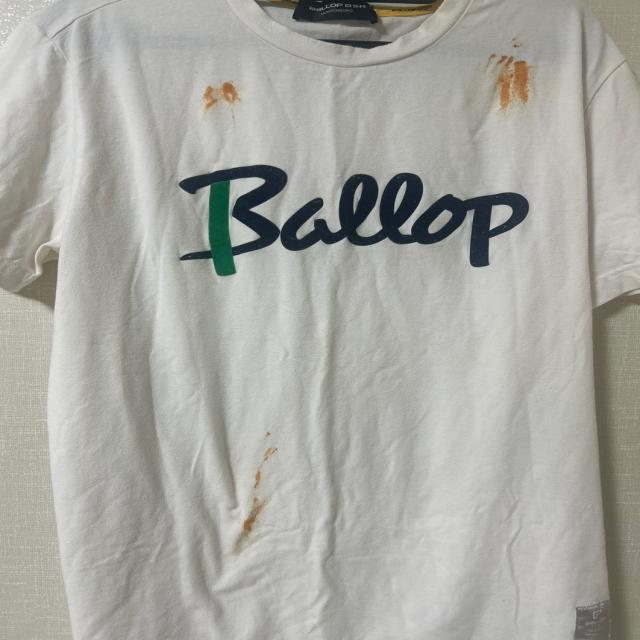stain: (238, 428, 275, 534), (483, 54, 539, 116), (203, 70, 238, 113), (514, 36, 538, 56)
